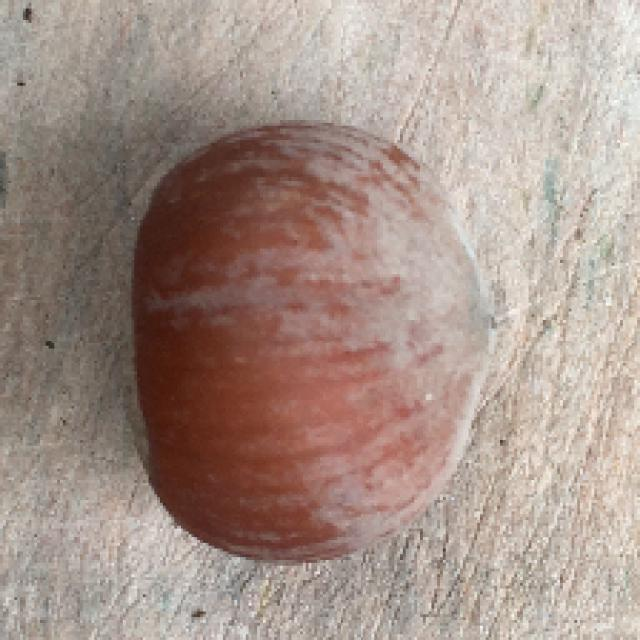QualityHazelnut: (118, 122, 502, 564)
